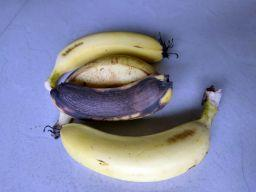banana: (49, 87, 222, 183), (56, 54, 158, 129), (46, 31, 165, 91), (50, 73, 174, 120)
